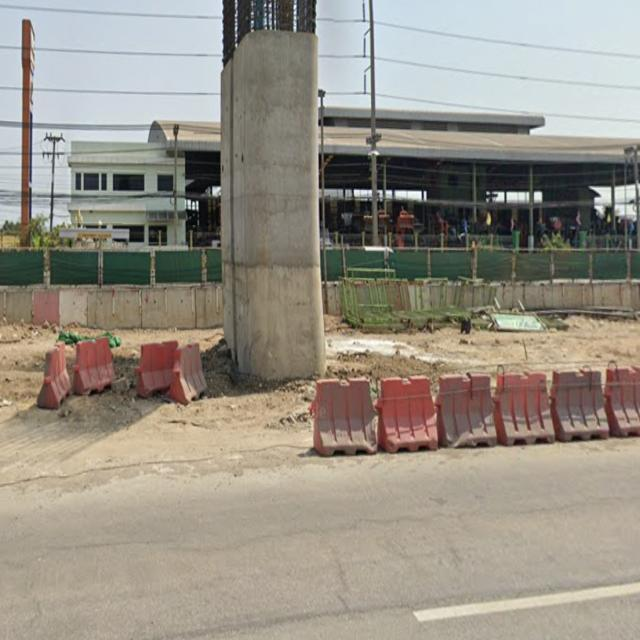fallen_object: (486, 370, 640, 461), (357, 359, 500, 456), (287, 360, 384, 474), (127, 316, 217, 411), (60, 310, 121, 410), (30, 335, 80, 403)
